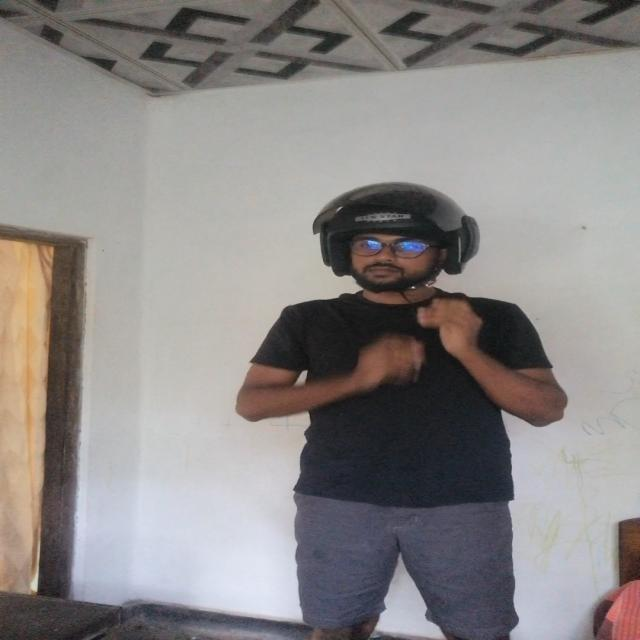Helmet_Wearer: (306, 183, 500, 314)
Person: (249, 177, 572, 640)
